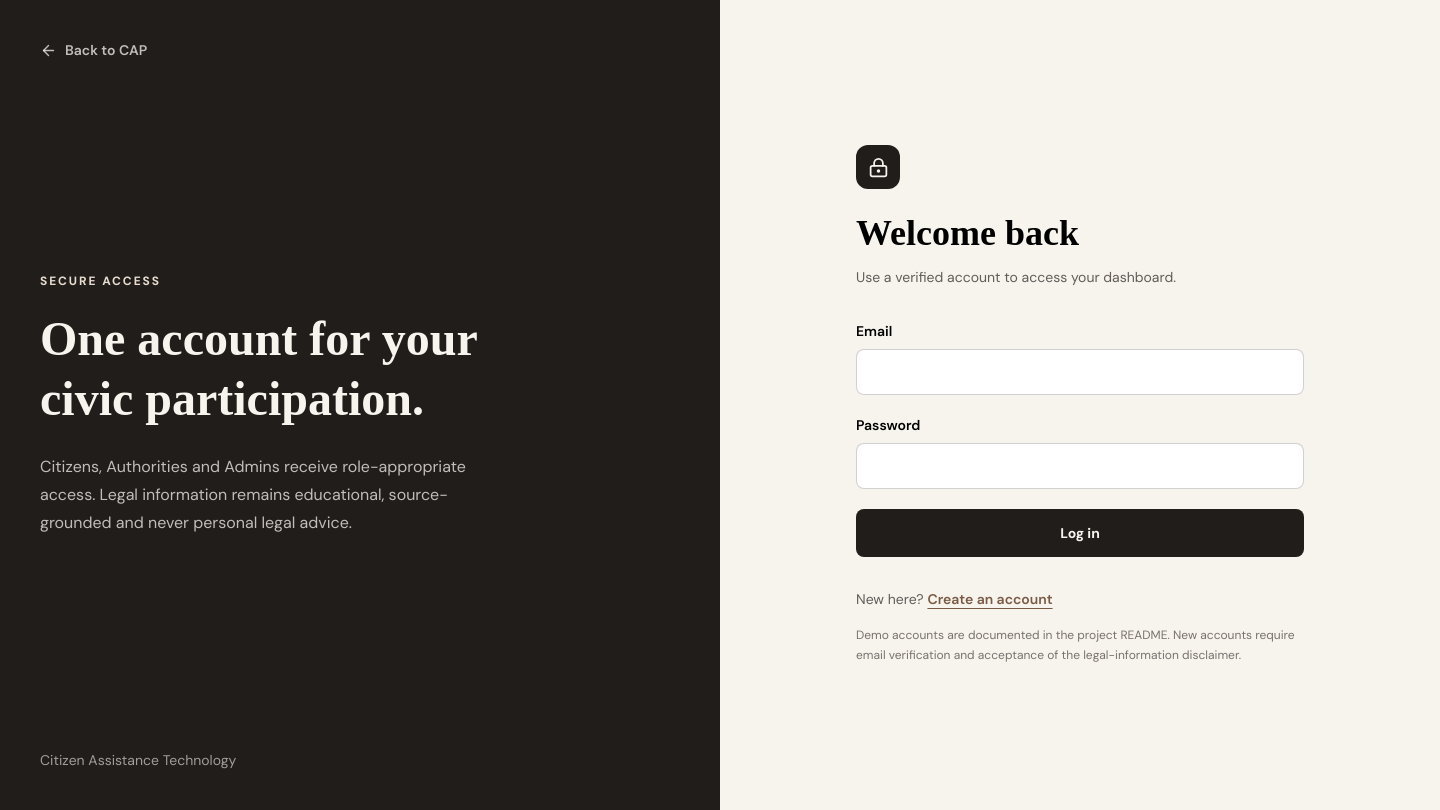
it: LoginPage › shows the API message when the credentials are wrong
Type "asha@example.com" into the field labelled "Email" at (1080, 372), box [856, 349, 1304, 395]
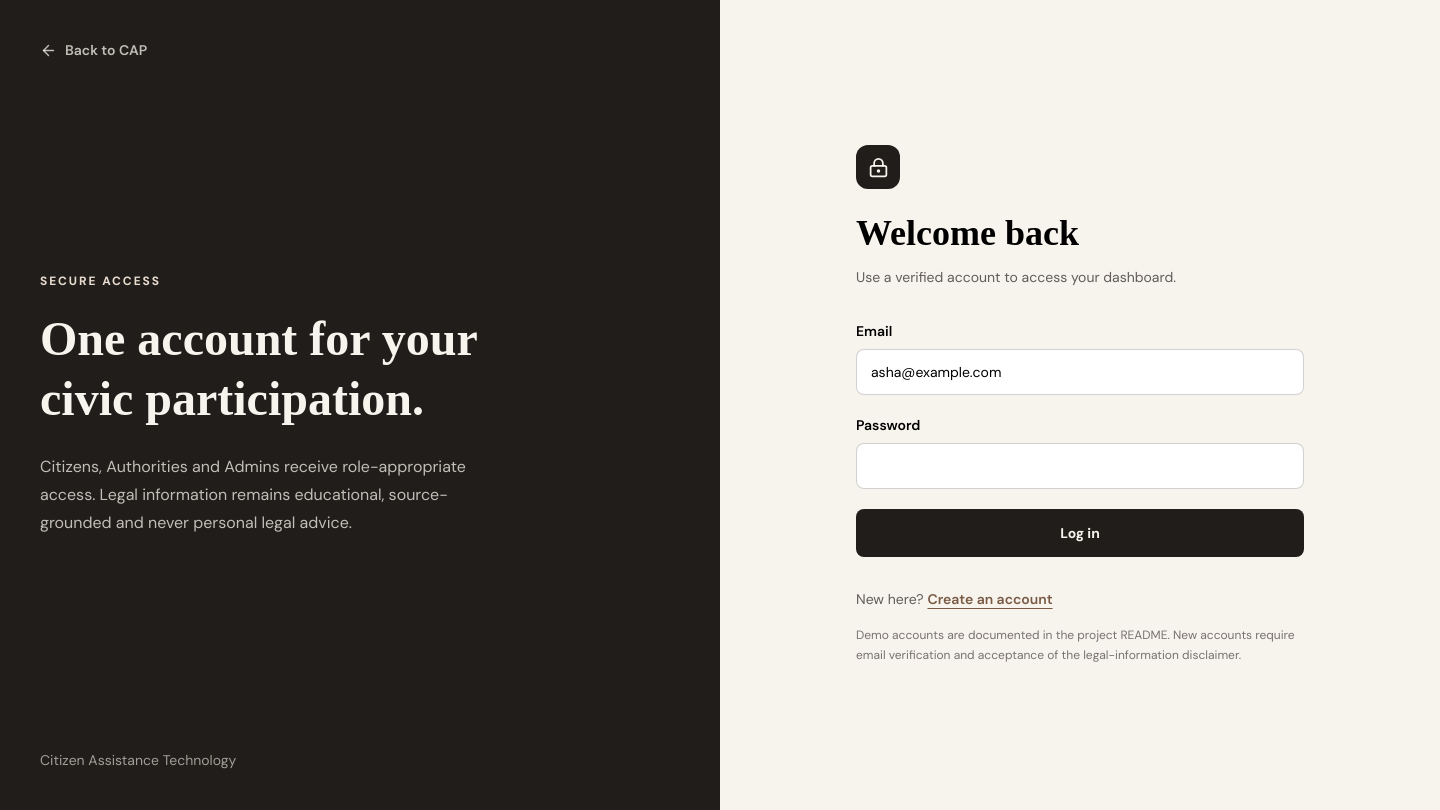
Type "WrongPassword!2026" into the password field labelled "Password" at (1080, 466), box [856, 443, 1304, 489]
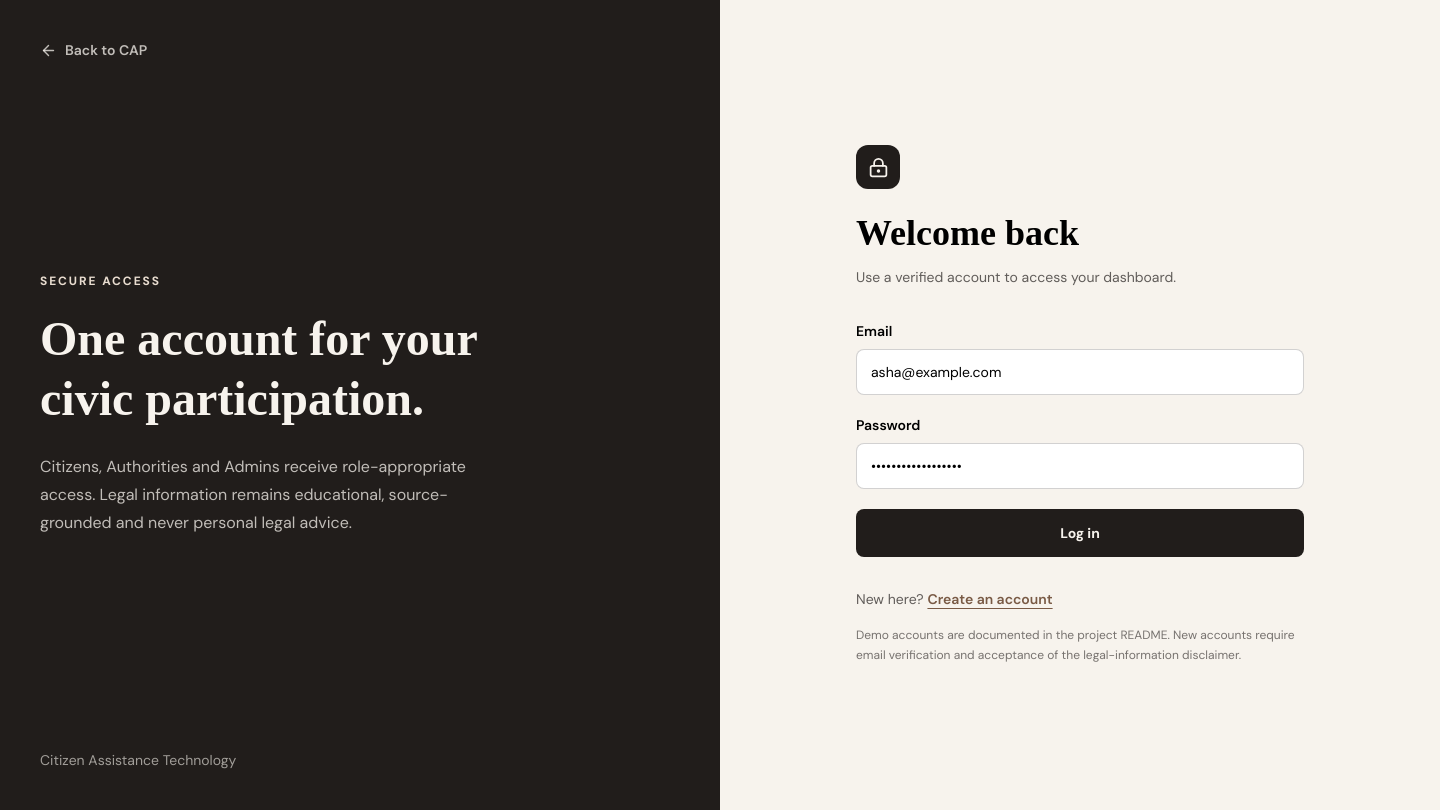
Click the button "Log in" at (1080, 533), box [856, 509, 1304, 557]
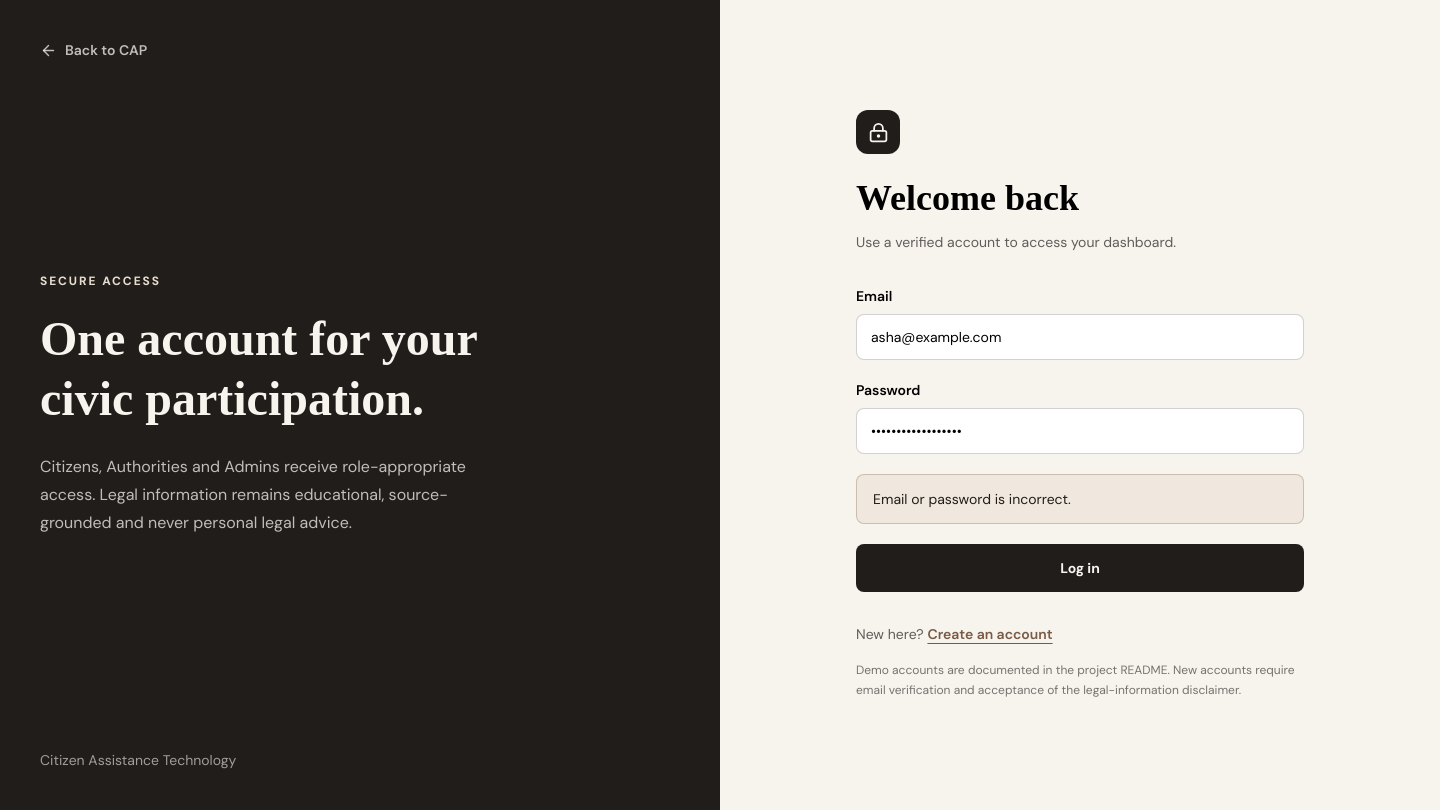
expect the message reads "Email or password is incorrect.": met, box [873, 490, 1071, 508]
